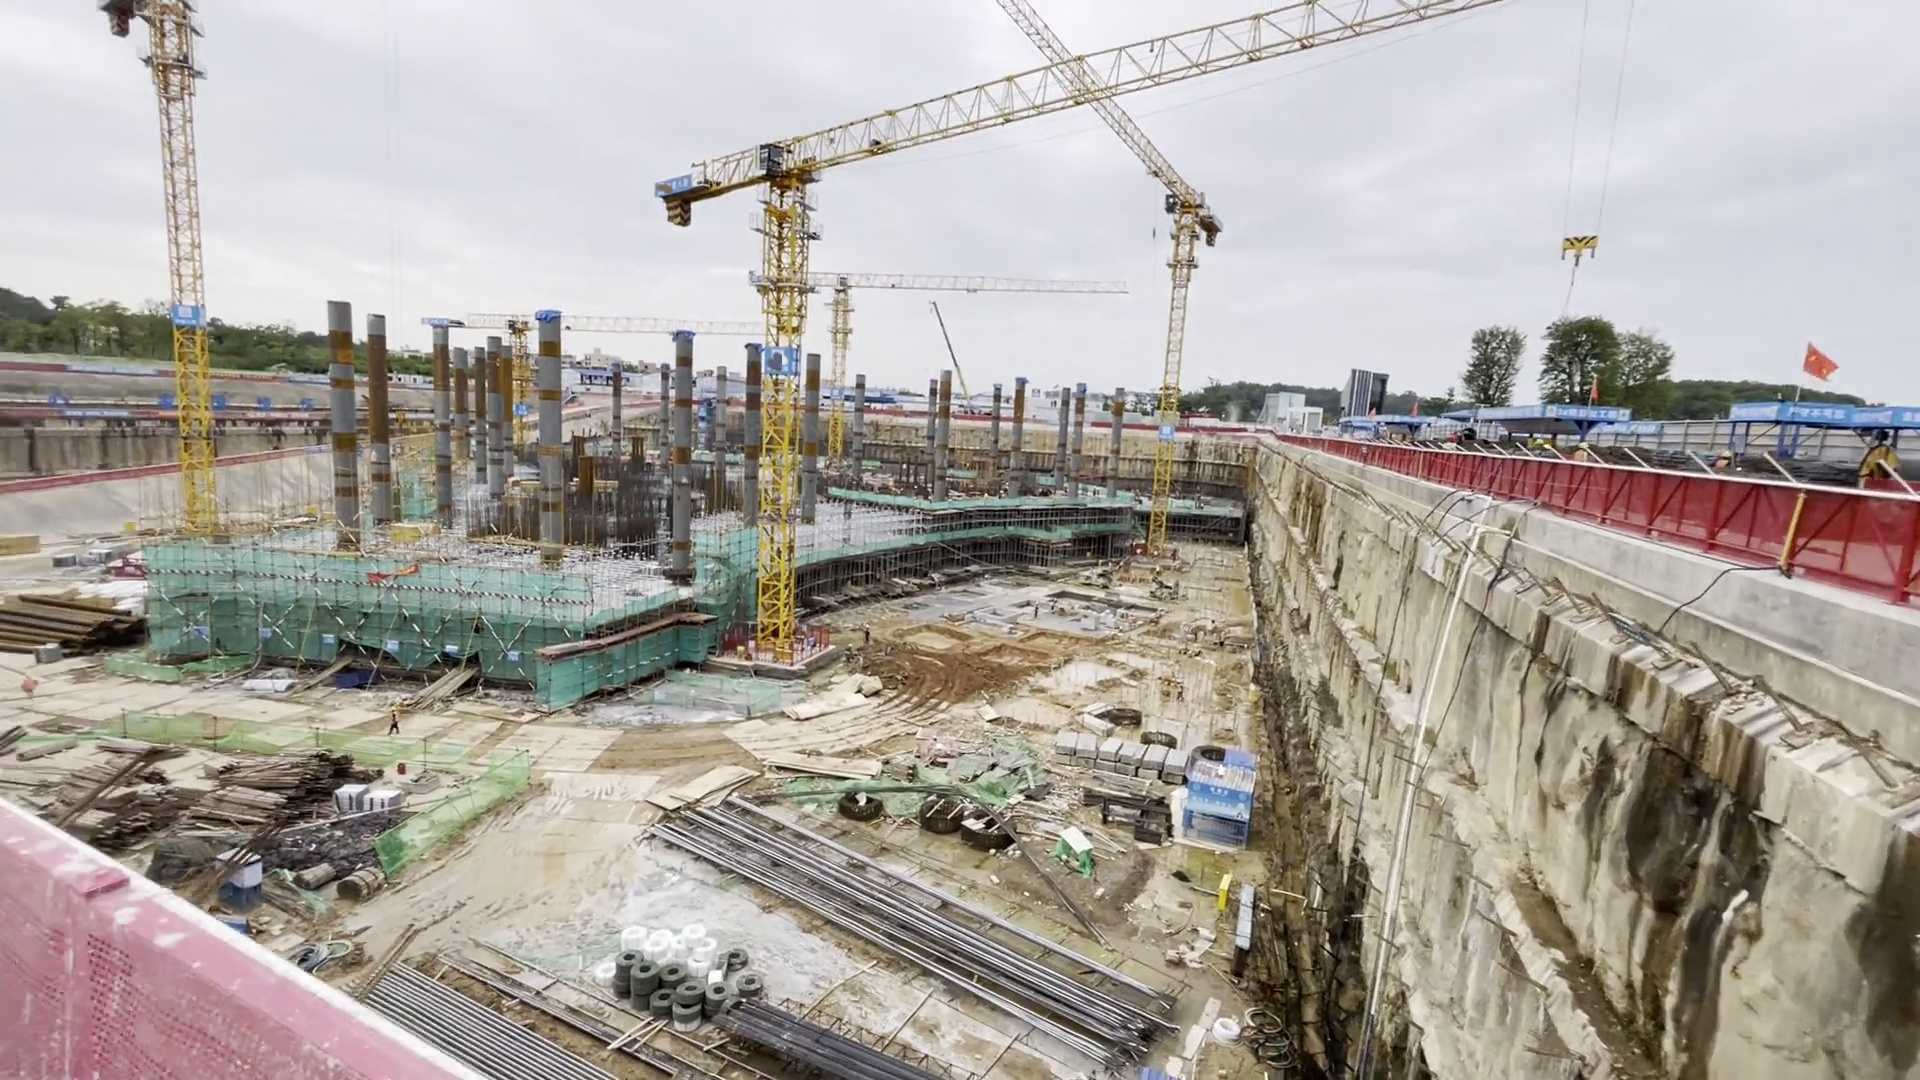brick: (1052, 736, 1191, 785), (339, 787, 407, 832)
ebox: (772, 643, 798, 666)
fence: (1569, 461, 1920, 571)
helmet: (391, 706, 397, 713), (848, 643, 853, 649), (865, 624, 870, 629), (1035, 600, 1039, 606)
hook: (1555, 236, 1601, 265)
hopper: (336, 670, 377, 690)
person: (18, 670, 41, 707), (386, 704, 404, 736), (842, 639, 856, 666), (862, 622, 875, 644), (1031, 599, 1041, 621)
rebar: (725, 984, 927, 1080)
slogan: (43, 391, 321, 414), (1779, 399, 1851, 428)
vest: (391, 713, 400, 725), (845, 649, 853, 658), (866, 629, 871, 640), (1034, 606, 1040, 614)
wood: (214, 745, 333, 819), (57, 767, 179, 828)
